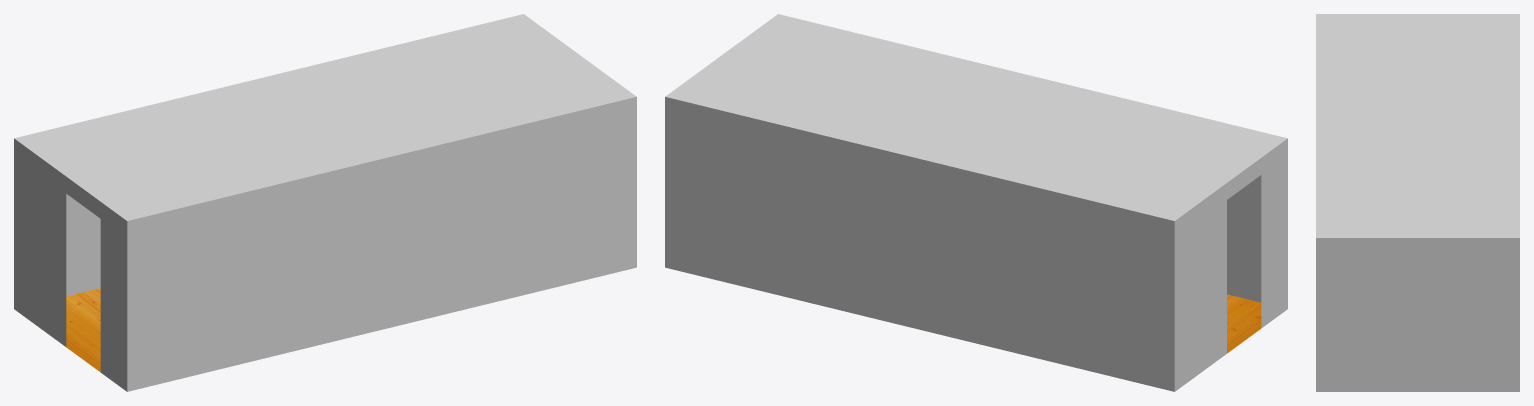
Rendered from waitingRoomTutorial.fbx.
3 renders of one model, left to right at view 1: azimuth 30°, elevation 25°; view 2: azimuth 150°, elevation 25°; view 3: azimuth 270°, elevation 25°, orthographic. The views are drawn at different scales.
Visible parts, largest first — view 1: RoomBox; view 2: RoomBox; view 3: RoomBox.
Boxes of the visible parts, <box> form: RoomBox: <box>14,14,636,391</box>; RoomBox: <box>665,14,1287,391</box>; RoomBox: <box>1316,14,1519,391</box>.
Bounding box in the file's own units: 3903 × 1250 × 1500.
